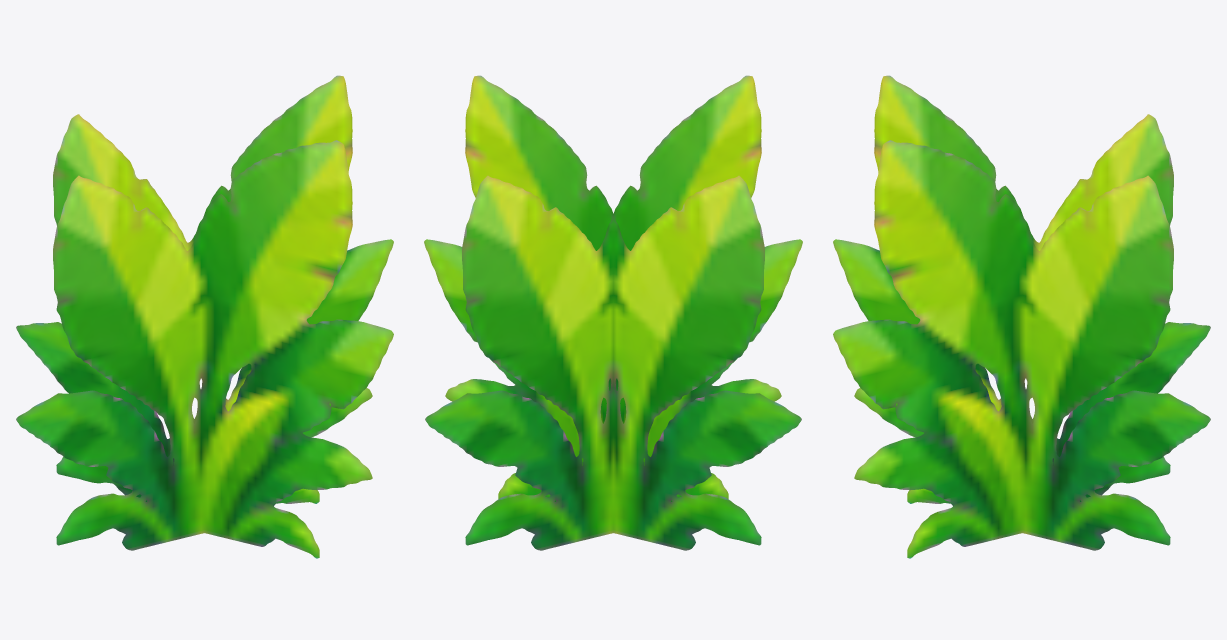
The model's file is h_canopee_touffe.glb.
The picture shows the model from 3 angles, left to right: view 1: azimuth 30°, elevation 25°; view 2: azimuth 150°, elevation 25°; view 3: azimuth 270°, elevation 25°; orthographic projection.
Parts seen in each view (by area): view 1: h_canopee_touffe; view 2: h_canopee_touffe; view 3: h_canopee_touffe.
Boxes of the visible parts, x1=… form: h_canopee_touffe: x1=16, y1=75, x2=393, y2=558; h_canopee_touffe: x1=424, y1=75, x2=802, y2=550; h_canopee_touffe: x1=833, y1=75, x2=1210, y2=558.
Bounding box in the file's own units: 0.2987 × 0.32 × 0.2587.
Materials: 1 (1 with a texture image).
